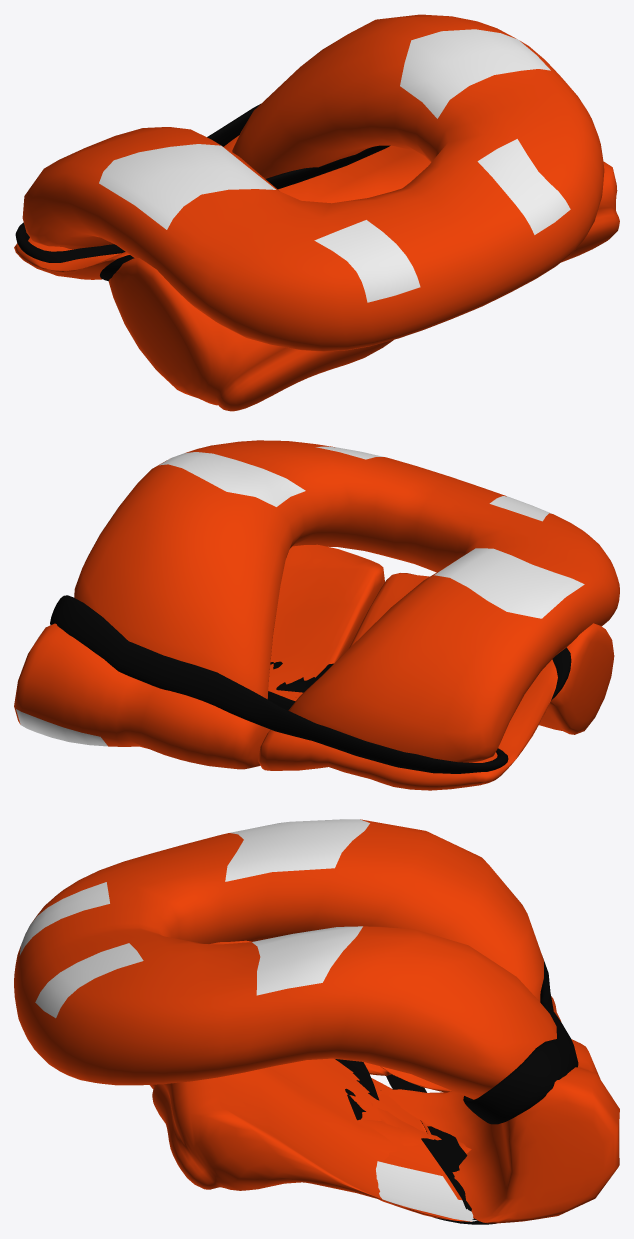
File: foldedjacket.fbx
The picture shows the model from 3 angles, top to bottom: view 1: azimuth 30°, elevation 25°; view 2: azimuth 150°, elevation 25°; view 3: azimuth 270°, elevation 25°; orthographic projection. The views are drawn at different scales.
Visible parts, largest first — view 1: pCube11; view 2: pCube11; view 3: pCube11.
Boxes of the visible parts, x1,y1,x2,y2 form: pCube11: (14, 14, 619, 411); pCube11: (14, 440, 619, 790); pCube11: (14, 819, 619, 1224).
Size of the model in its own units: 2.04 by 0.9892 by 2.02.
